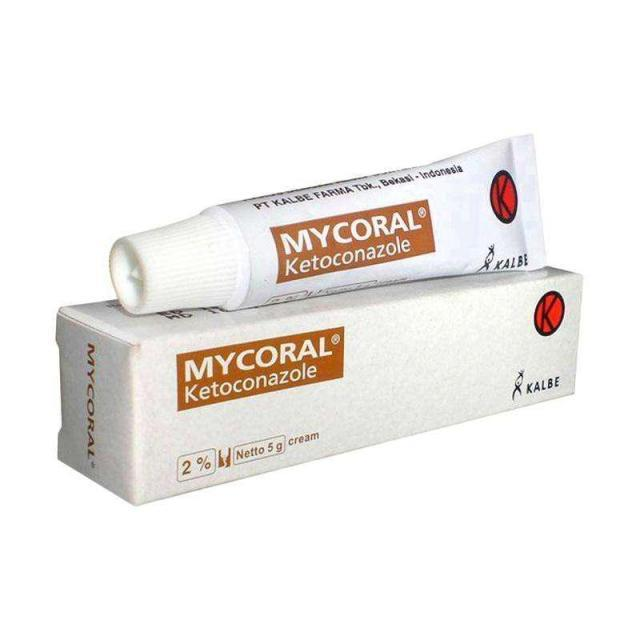drug-name: (181, 333, 333, 383)
